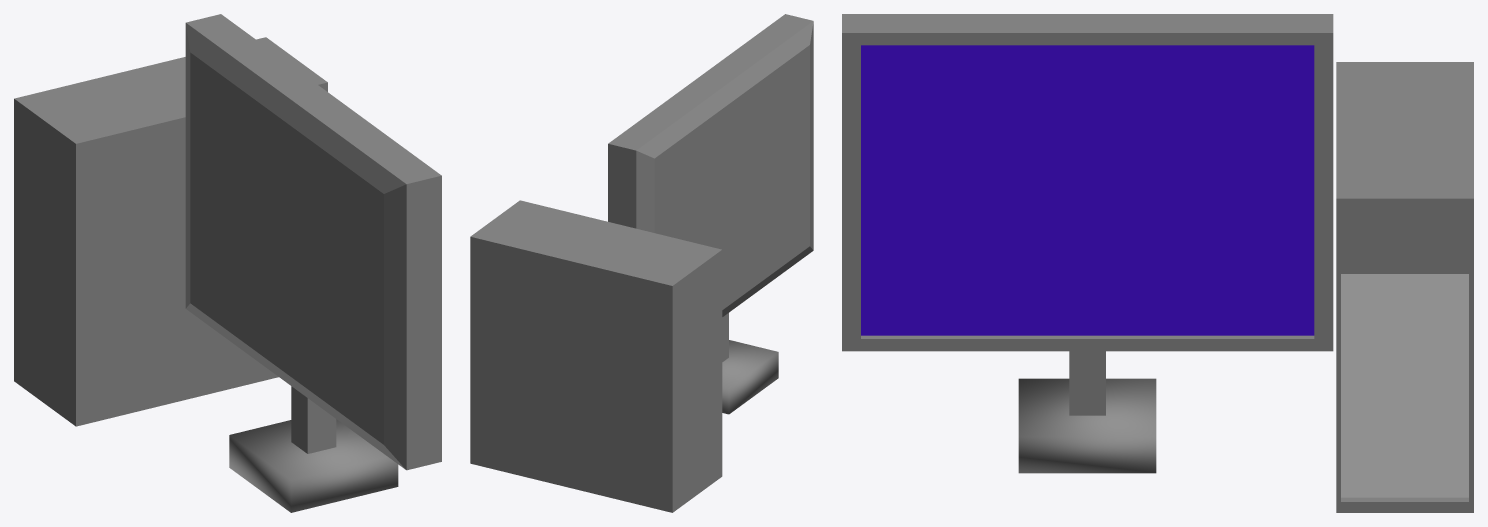
Rendered from ransomwarev2.glb.
3 renders of one model, left to right at view 1: azimuth 30°, elevation 25°; view 2: azimuth 150°, elevation 25°; view 3: azimuth 270°, elevation 25°, orthographic. The views are drawn at different scales.
Visible parts, largest first — view 1: Cube.002, PC, Cube, Cube.001; view 2: PC, Cube.002, Cube; view 3: Cube.002, PC, Cube, Cube.001.
Part boxes in pixels (box(x1,y1,x2,y2)): Cube.002: box(185, 14, 441, 470); PC: box(14, 37, 327, 426); Cube: box(229, 419, 398, 512); Cube.001: box(291, 386, 336, 453); PC: box(470, 200, 722, 512); Cube.002: box(608, 14, 813, 316); Cube: box(722, 340, 778, 414); Cube.002: box(842, 14, 1333, 351); PC: box(1336, 62, 1473, 512); Cube: box(1018, 378, 1156, 473); Cube.001: box(1069, 351, 1105, 415).
Bounding box in the file's own units: 0.0631 × 0.0906 × 0.1232.
